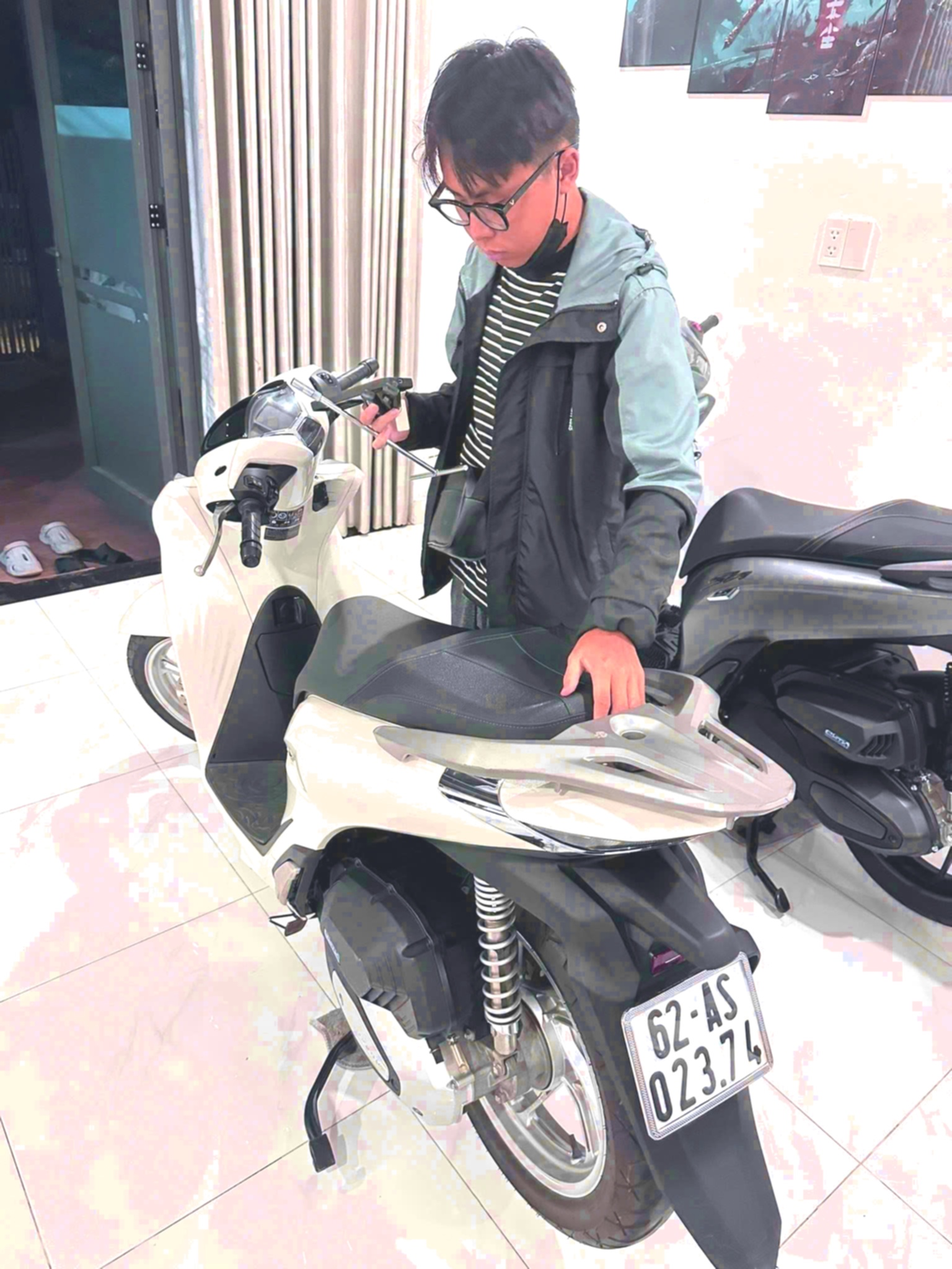Bien-so: (585, 980, 758, 1170)
